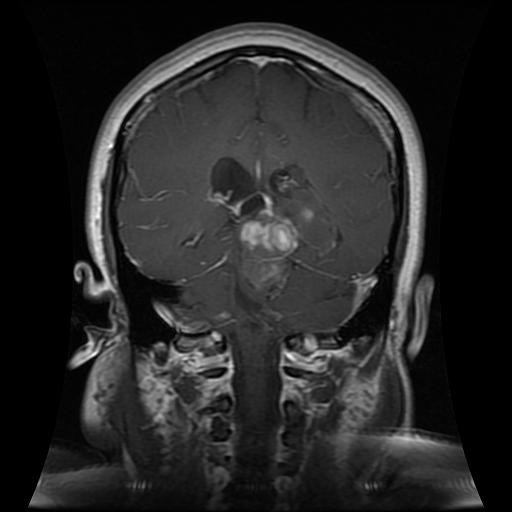Gliomia_tumour: (233, 161, 337, 303)
